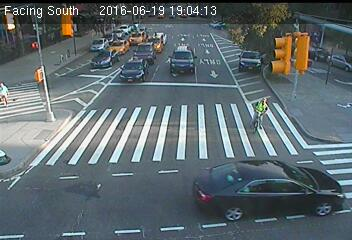neg: (248, 87, 283, 134), (69, 119, 96, 155), (82, 176, 107, 210), (132, 175, 156, 207), (187, 155, 211, 186), (126, 39, 149, 70), (288, 168, 311, 199), (83, 49, 106, 79), (277, 39, 298, 68), (36, 105, 57, 134), (299, 86, 320, 114), (244, 162, 264, 189), (36, 65, 55, 90), (176, 50, 193, 73), (230, 48, 247, 71), (137, 116, 154, 139)
